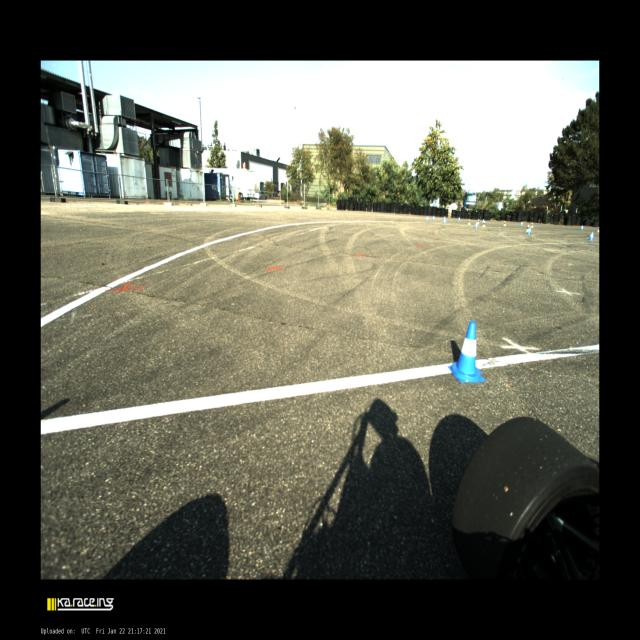blue_cone: (448, 321, 486, 382), (588, 232, 594, 240), (526, 227, 531, 234), (442, 216, 446, 224), (474, 222, 478, 228), (580, 224, 584, 230), (432, 215, 435, 220), (520, 221, 523, 226), (458, 216, 460, 222), (426, 216, 428, 221)
yellow_cone: (526, 224, 530, 232), (467, 219, 471, 225), (482, 221, 486, 227), (503, 221, 506, 226), (531, 223, 534, 228), (597, 227, 599, 232)
